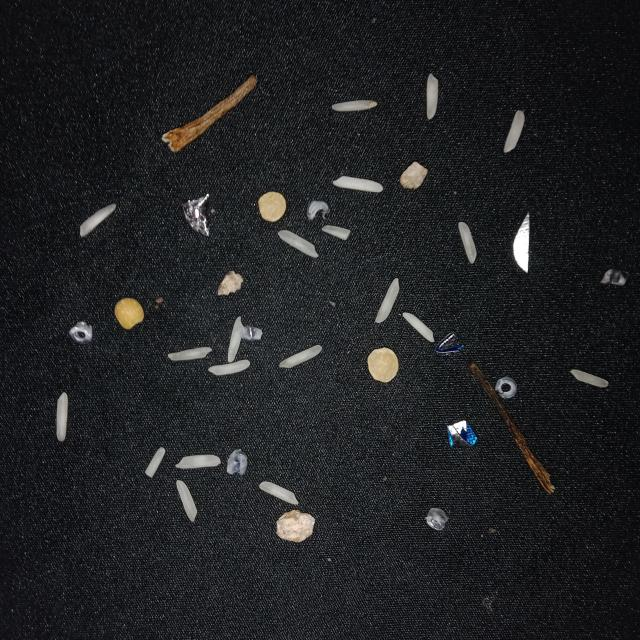Broken: (145, 447, 166, 478), (322, 226, 351, 240)
Full: (80, 203, 116, 237), (278, 230, 319, 258), (376, 278, 400, 322), (280, 345, 322, 369), (402, 313, 435, 342), (502, 110, 524, 153), (176, 479, 197, 523), (259, 482, 299, 505), (333, 175, 384, 193), (458, 222, 477, 264), (227, 316, 244, 362), (570, 368, 608, 388), (208, 359, 250, 375), (175, 454, 221, 468), (426, 72, 439, 120), (168, 346, 212, 360), (56, 391, 68, 442), (332, 100, 378, 111)
